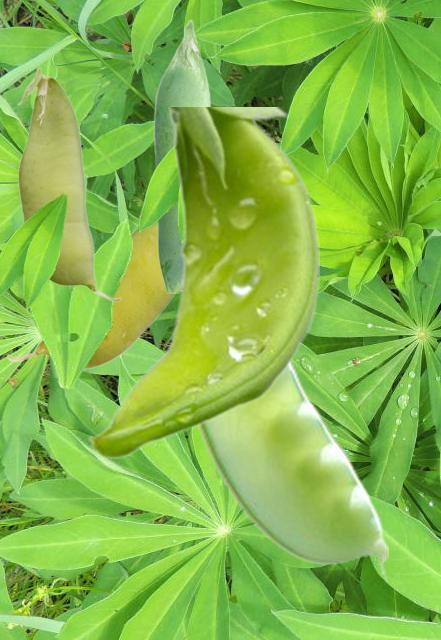pea: (86, 107, 318, 457), (195, 360, 387, 583), (16, 67, 121, 301), (6, 224, 176, 368), (153, 19, 211, 292)
